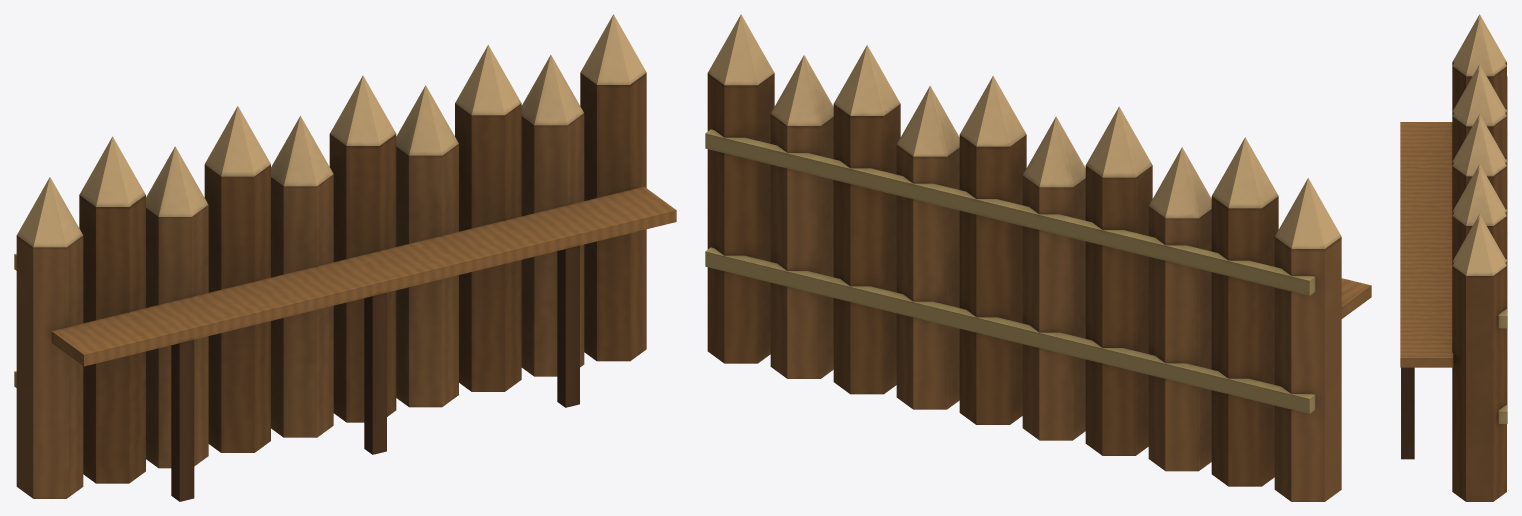
File: fort_l2_edge.glb
3 renders of one model, left to right at view 1: azimuth 30°, elevation 25°; view 2: azimuth 150°, elevation 25°; view 3: azimuth 270°, elevation 25°, orthographic. The views are drawn at different scales.
Parts seen in each view (by area): view 1: fort_l2_edge; view 2: fort_l2_edge; view 3: fort_l2_edge.
Boxes of the visible parts, x1,y1,x2,y2 form: fort_l2_edge: [14, 14, 676, 501]; fort_l2_edge: [705, 14, 1371, 501]; fort_l2_edge: [1400, 14, 1507, 501].
Bounding box in the file's own units: 0.766 × 0.4 × 0.142.
1 material, 1 textured.
